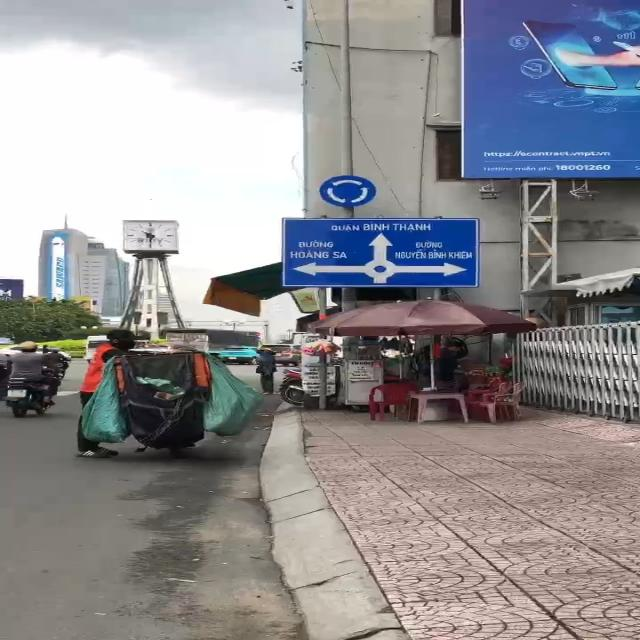Bien bao noi giao nhau chay theo vong xuyen: (319, 173, 383, 211)
